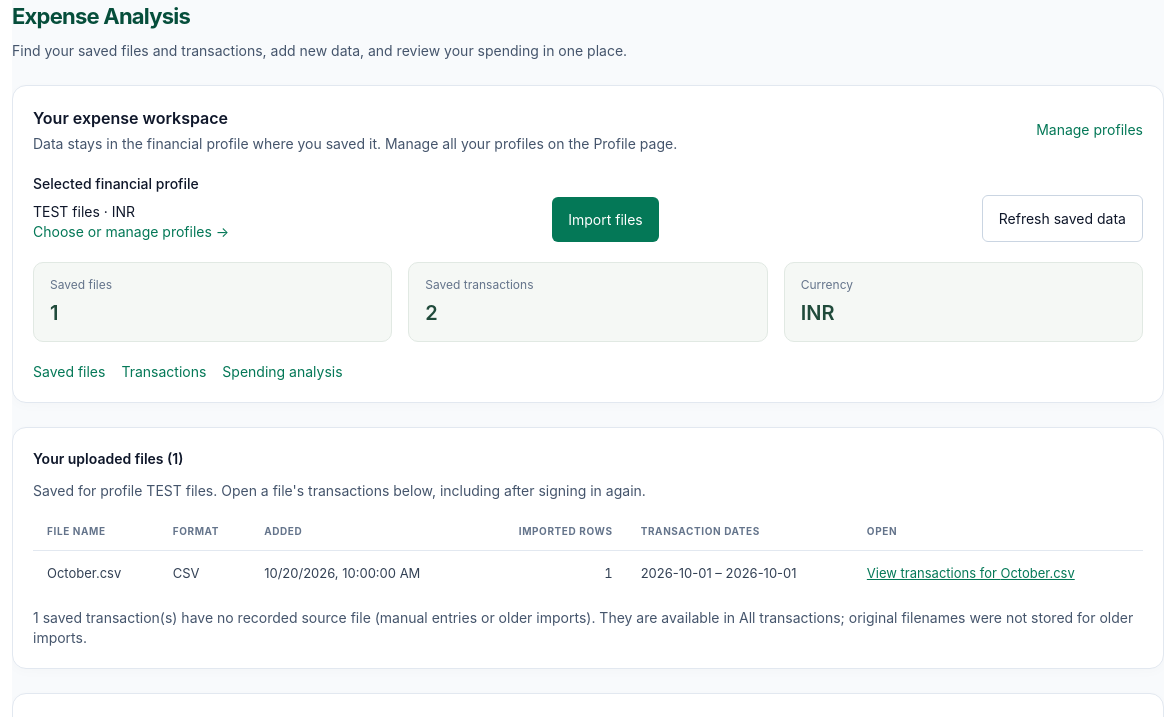
Test case: shows uploaded files after loading saved data and filters their transactions
The image size is (1164, 717).
Click the button "View transactions for October.csv": coordinates (971, 573) [867, 564, 1075, 583]
(page scrolled)
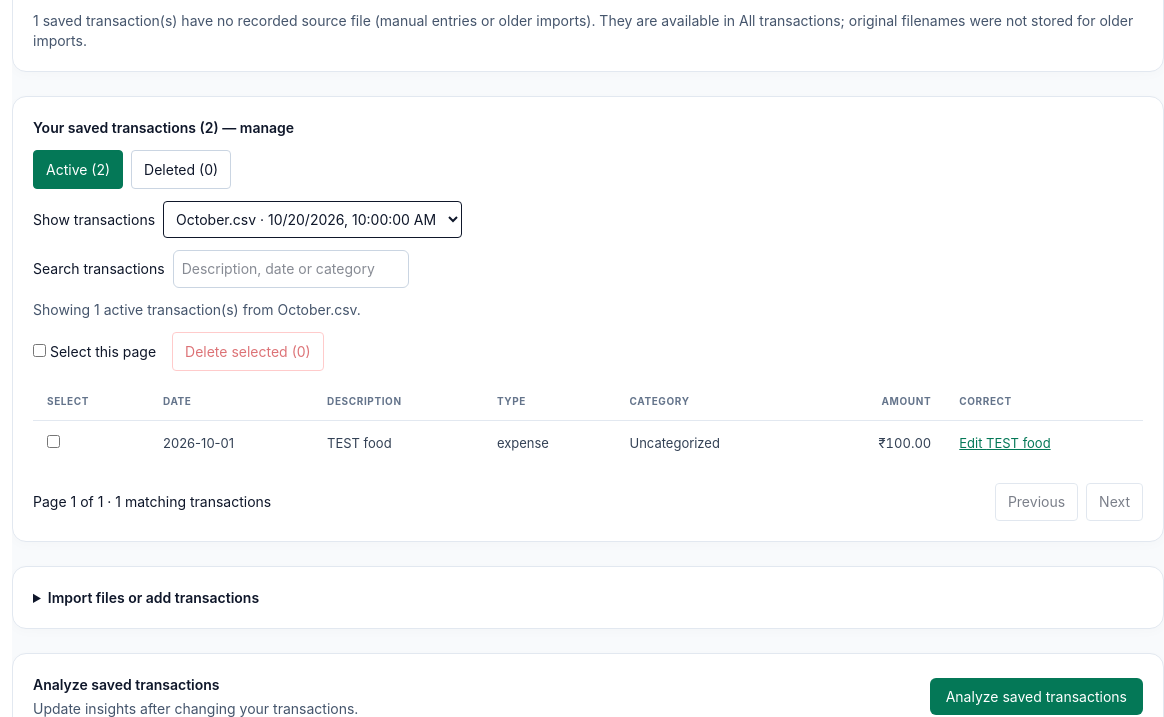
Expected: the button "Edit TEST food" is shown, [959, 434, 1051, 454]
Select "All transactions" in the dropdown named "Filter by uploaded file": coordinates (313, 220) [163, 201, 462, 238]
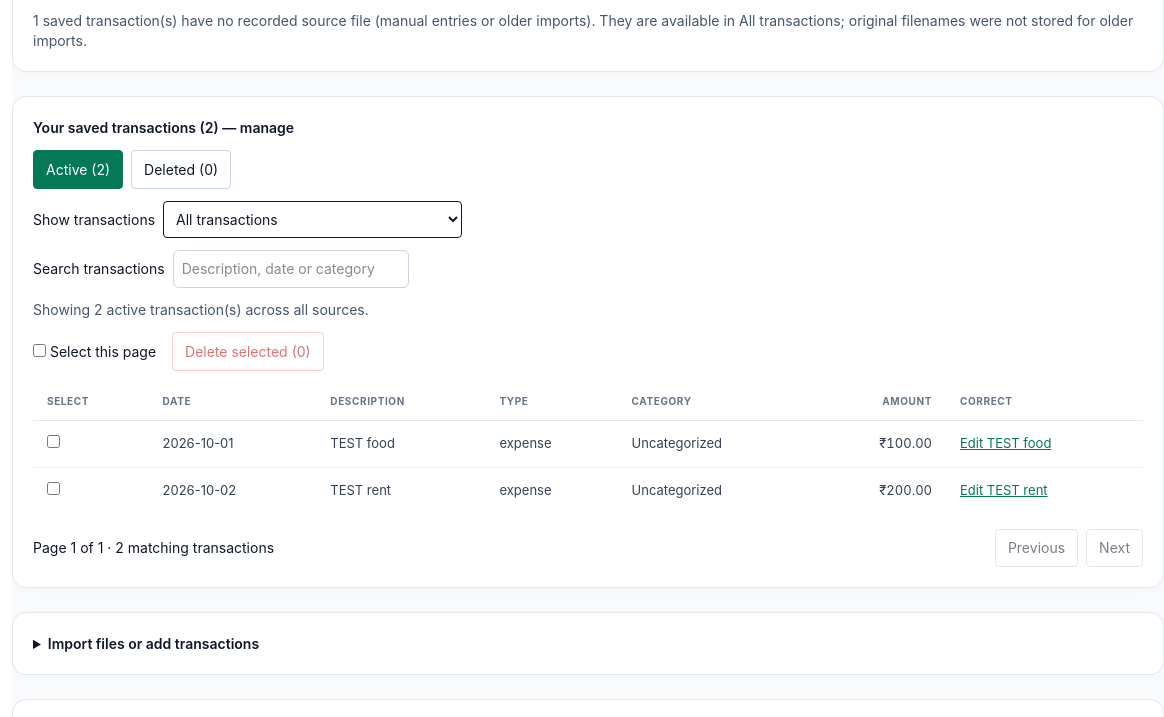
Expected: the text "original filenames were not stored" is shown, [33, 12, 1133, 49]
Now the button "Edit TEST rent" is shown, box [960, 481, 1048, 500]
